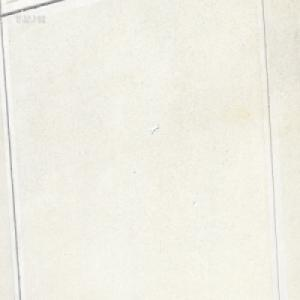Wrench: (150, 122, 159, 134)
